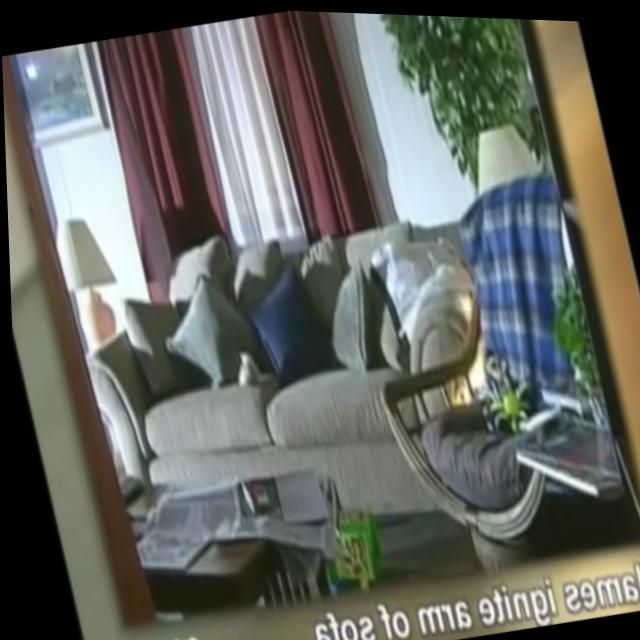fire: (423, 285, 496, 409)
